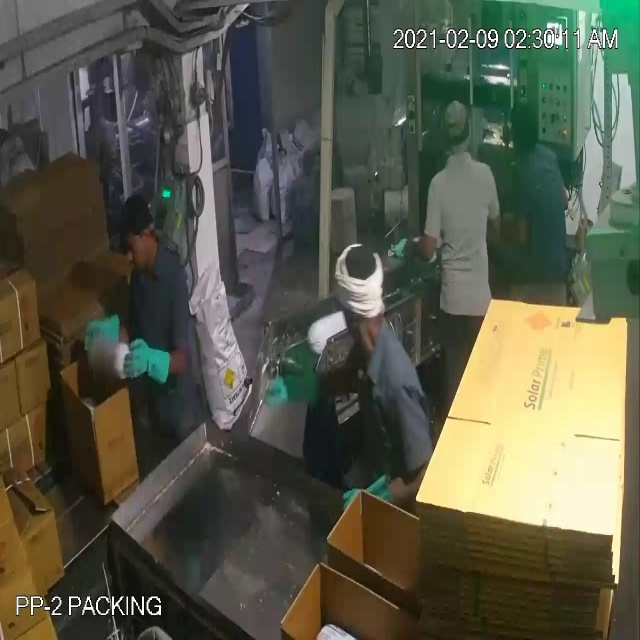Guantes: (253, 357, 329, 416), (119, 333, 176, 396), (77, 309, 125, 354)
